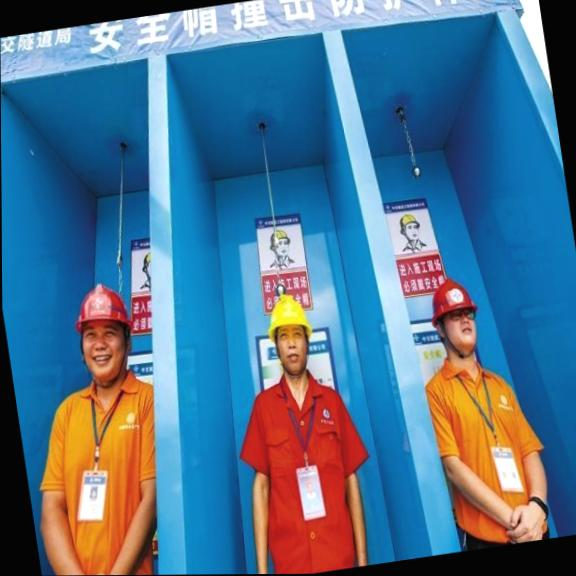no_safety_vest: (44, 373, 166, 576), (249, 367, 361, 565), (425, 348, 537, 526)
